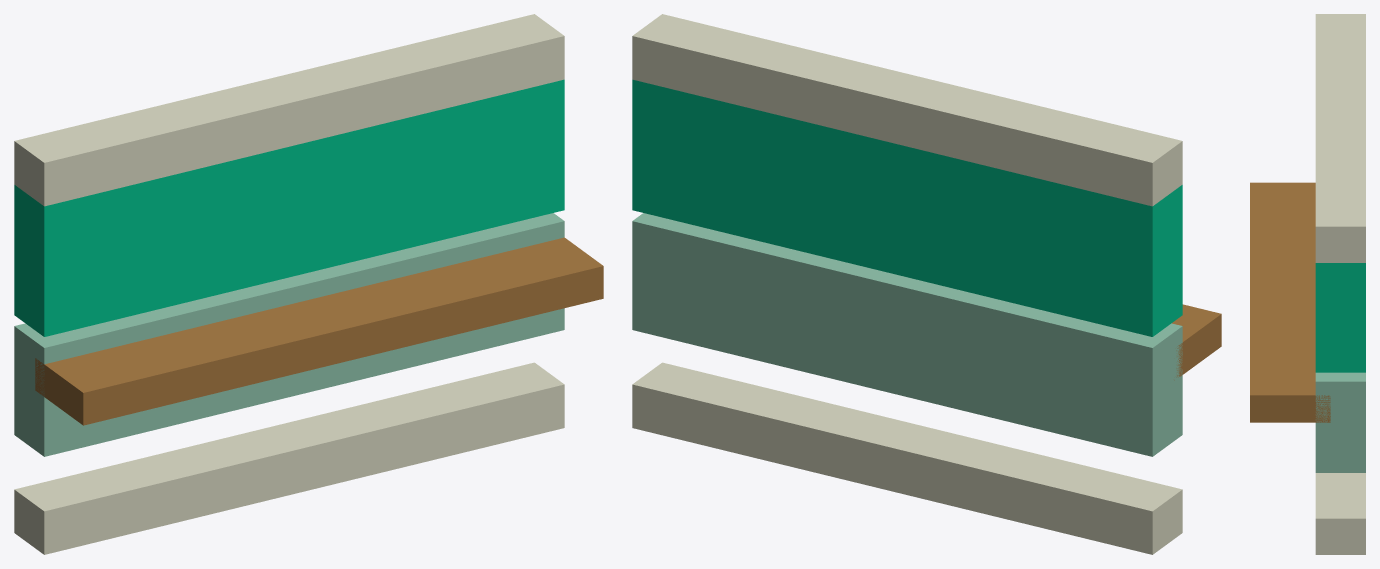
File: leaf_structure.glb
The picture shows the model from 3 angles, left to right: view 1: azimuth 30°, elevation 25°; view 2: azimuth 150°, elevation 25°; view 3: azimuth 270°, elevation 25°; orthographic projection. The views are drawn at different scales.
Visible parts, largest first — view 1: world; view 2: world; view 3: world.
Part boxes in pixels (x1=…): world: x1=14, y1=14, x2=603, y2=554; world: x1=632, y1=14, x2=1221, y2=554; world: x1=1250, y1=14, x2=1365, y2=554.
Size of the model in its own units: 5 by 3.7 by 1.15.
